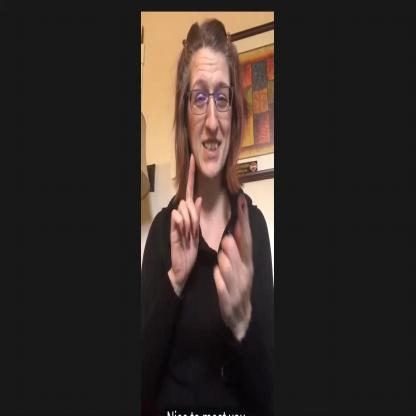NiceToMeetYou: (168, 150, 258, 340)
